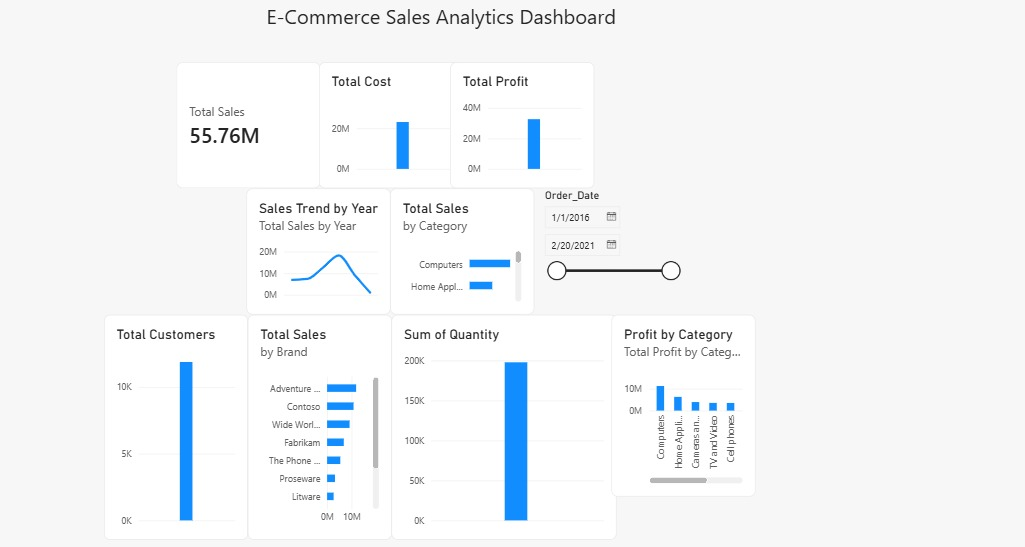

Layout of this report page (visuals, bound fields, positions):
{"tool":"powerbi","page":{"name":"Page 1","canvas":[1920,1080],"ordinal":0},"visuals":[{"type":"clusteredColumnChart","fields":{"Y":["Sum(ecommerce_db sales.Quantity)"]},"box":[721.7,431.7,300,300],"z":0},{"type":"cardVisual","fields":{"Data":["ecommerce_db sales.Total Sales"]},"box":[50,95,192,168],"z":1000},{"type":"clusteredColumnChart","fields":{"Y":["ecommerce_db sales.Total Cost"]},"box":[241.7,95,192,168],"z":2000},{"type":"clusteredColumnChart","fields":{"Y":["ecommerce_db sales.Total Profit"]},"box":[433.3,95,192,168],"z":3000},{"type":"clusteredColumnChart","fields":{"Y":["ecommerce_db sales.Total Customers"]},"box":[146.7,431.7,192,300],"z":4000},{"type":"lineChart","title":"Sales Trend by Year","fields":{"Category":["ecommerce_db sales.Order_Date.Variation.Date Hierarchy.Year","ecommerce_db sales.Order_Date.Variation.Date Hierarchy.Quarter","ecommerce_db sales.Order_Date.Variation.Date Hierarchy.Month","ecommerce_db sales.Order_Date.Variation.Date Hierarchy.Day"],"Y":["ecommerce_db sales.Total Sales"]},"box":[336.7,263.3,192,168],"z":5000},{"type":"clusteredBarChart","fields":{"Category":["ecommerce_db products.Category"],"Y":["ecommerce_db sales.Total Sales"]},"box":[528.3,263.3,192,168],"z":6000},{"type":"clusteredBarChart","fields":{"Category":["ecommerce_db products.Brand"],"Y":["ecommerce_db sales.Total Sales"]},"box":[338.3,431.7,192,300],"z":7000},{"type":"clusteredColumnChart","title":"Profit by Category","fields":{"Category":["ecommerce_db products.Category"],"Y":["ecommerce_db sales.Total Profit"]},"box":[530,431.7,192,242],"z":8000},{"type":"slicer","fields":{"Values":["ecommerce_db sales.Order_Date"]},"box":[1021.7,431.7,191.7,241.7],"z":9000},{"type":"textbox","box":[363.3,15,555,61.7],"z":10000}]}

Visuals, with their boxes on the page's 1920x1080 design canvas (x1, y1, x2, y2). These are canvas units, not pixel positions in the 1025x547 screenshot, which may show the page scaled, cropped or inside an application window:
clusteredColumnChart - Sum(ecommerce_db sales.Quantity): Rect(722, 432, 1022, 732)
cardVisual - ecommerce_db sales.Total Sales: Rect(50, 95, 242, 263)
clusteredColumnChart - ecommerce_db sales.Total Cost: Rect(242, 95, 434, 263)
clusteredColumnChart - ecommerce_db sales.Total Profit: Rect(433, 95, 625, 263)
clusteredColumnChart - ecommerce_db sales.Total Customers: Rect(147, 432, 339, 732)
"Sales Trend by Year" lineChart: Rect(337, 263, 529, 431)
clusteredBarChart - ecommerce_db products.Category x ecommerce_db sales.Total Sales: Rect(528, 263, 720, 431)
clusteredBarChart - ecommerce_db products.Brand x ecommerce_db sales.Total Sales: Rect(338, 432, 530, 732)
"Profit by Category" clusteredColumnChart: Rect(530, 432, 722, 674)
slicer - ecommerce_db sales.Order_Date: Rect(1022, 432, 1213, 673)
textbox: Rect(363, 15, 918, 77)
